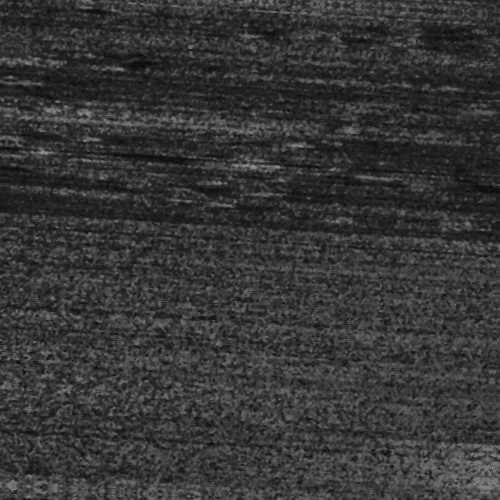object: (171, 157, 264, 166), (72, 144, 113, 147)
shadow: (143, 157, 217, 166), (30, 144, 92, 147)
